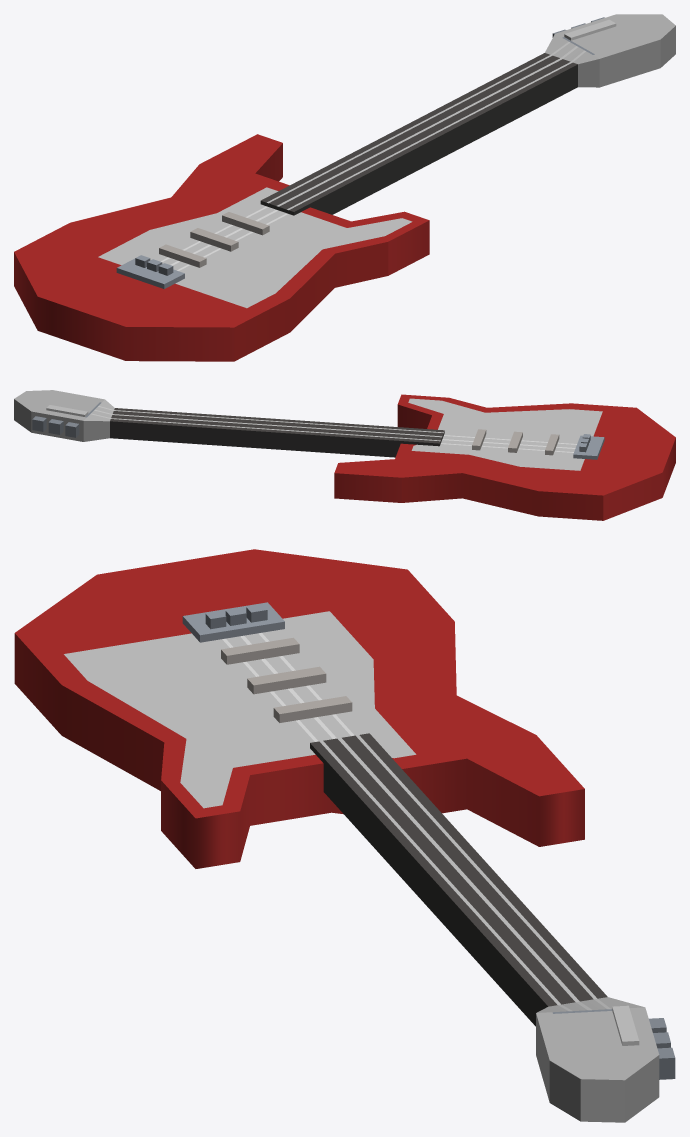
File: guitar.glb
3 views of the same model, one above another, from view 1: azimuth 30°, elevation 25°; view 2: azimuth 150°, elevation 25°; view 3: azimuth 270°, elevation 25° (orthographic). The views are drawn at different scales.
Visible parts, largest first — view 1: Object_2; view 2: Object_2; view 3: Object_2.
Boxes of the visible parts, x1,y1,x2,y2 form: Object_2: (14, 14, 675, 361); Object_2: (14, 390, 675, 520); Object_2: (14, 549, 675, 1122).
Size of the model in its own units: 4.8 by 0.2818 by 2.47.
Materials: 1 (1 with a texture image).
